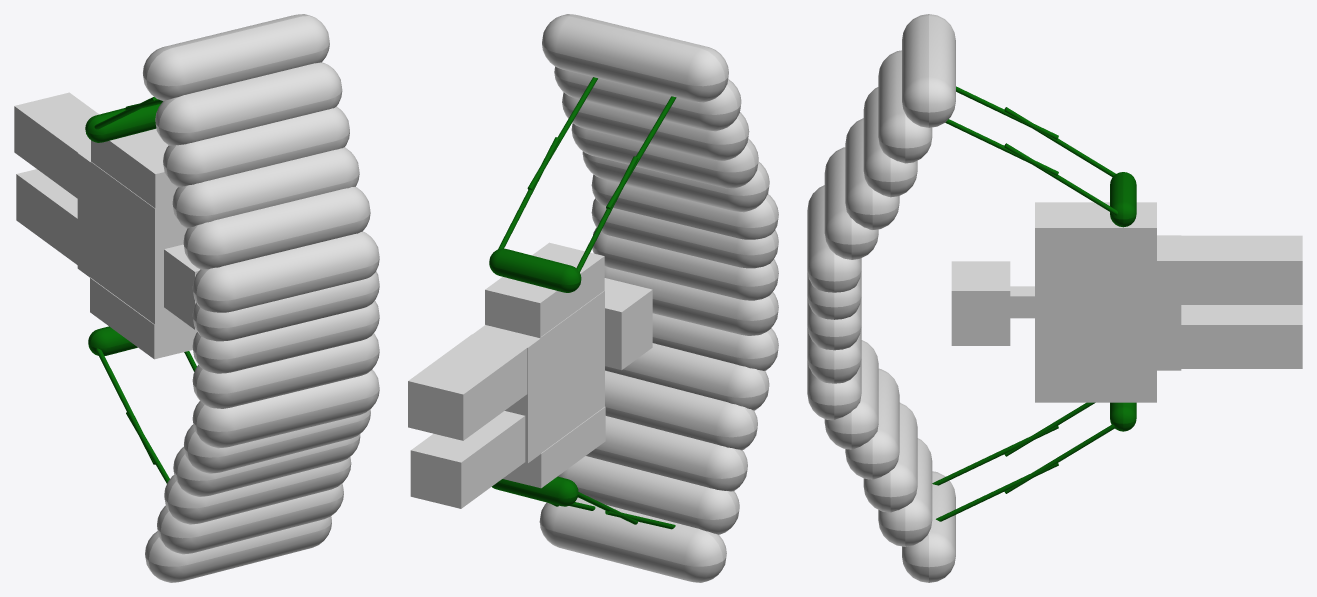
Rendered from parachute.gltf.
The picture shows the model from 3 angles, left to right: view 1: azimuth 30°, elevation 25°; view 2: azimuth 150°, elevation 25°; view 3: azimuth 270°, elevation 25°; orthographic projection. The views are drawn at different scales.
Visible parts, largest first — view 1: man, paracaidas, Cubo_1, Cubo_4, Cubo_5, Cubo_2, Cubo_3, Cubo_9, Cubo_8, Cubo_7, Cubo_13, Cubo_6 (+7 smaller); view 2: man, paracaidas, Cubo_14, Cubo_13, Cubo_11, Cubo_12, Cubo_7, Cubo_10, Cubo_6, Cubo_2, Cubo_8, Cubo_5 (+10 smaller); view 3: man, paracaidas, Cubo_1, Cubo_14, Cubo_4, Cubo_11, Cubo_3, Cubo_12, Cubo_5, Cubo_13, Cubo_2, Cubo_10 (+8 smaller).
Part boxes in pixels (box(x1,y1,x2,y2)): man: box(14, 92, 200, 359); paracaidas: box(143, 14, 329, 100); Cubo_1: box(155, 62, 342, 145); Cubo_4: box(183, 186, 370, 269); Cubo_5: box(192, 231, 379, 312); Cubo_2: box(163, 106, 349, 187); Cubo_3: box(172, 147, 359, 228); Cubo_9: box(192, 369, 379, 448); Cubo_8: box(192, 333, 379, 408); Cubo_7: box(192, 300, 379, 373); Cubo_13: box(157, 483, 343, 554); Cubo_6: box(192, 271, 379, 341); man: box(408, 242, 652, 508); paracaidas: box(542, 14, 728, 102); Cubo_14: box(539, 497, 726, 582); Cubo_13: box(558, 456, 739, 534); Cubo_11: box(605, 370, 757, 450); Cubo_12: box(586, 416, 747, 491); Cubo_7: box(592, 227, 778, 300); Cubo_10: box(605, 343, 769, 410); Cubo_6: box(591, 198, 778, 268); Cubo_2: box(562, 92, 749, 160); Cubo_8: box(604, 266, 778, 335); Cubo_5: box(591, 174, 778, 239); man: box(951, 202, 1302, 402); paracaidas: box(902, 14, 955, 127); Cubo_1: box(878, 50, 932, 163); Cubo_14: box(902, 471, 955, 582); Cubo_4: box(824, 147, 878, 259); Cubo_11: box(845, 368, 899, 479); Cubo_3: box(845, 118, 899, 229); Cubo_12: box(863, 402, 917, 512); Cubo_5: box(807, 185, 861, 292); Cubo_13: box(878, 438, 932, 546); Cubo_2: box(863, 87, 917, 197); Cubo_10: box(824, 340, 878, 449).
Size of the model in its own units: 0.8974 by 2.51 by 2.23.
